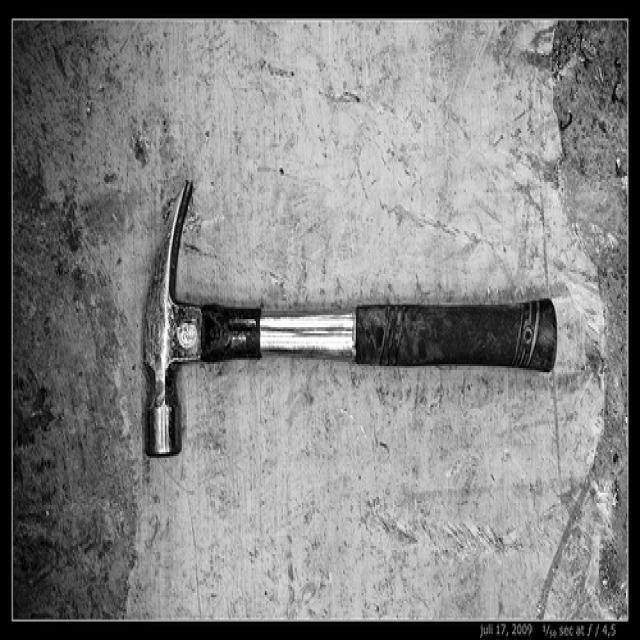hammer: (129, 163, 566, 478)
